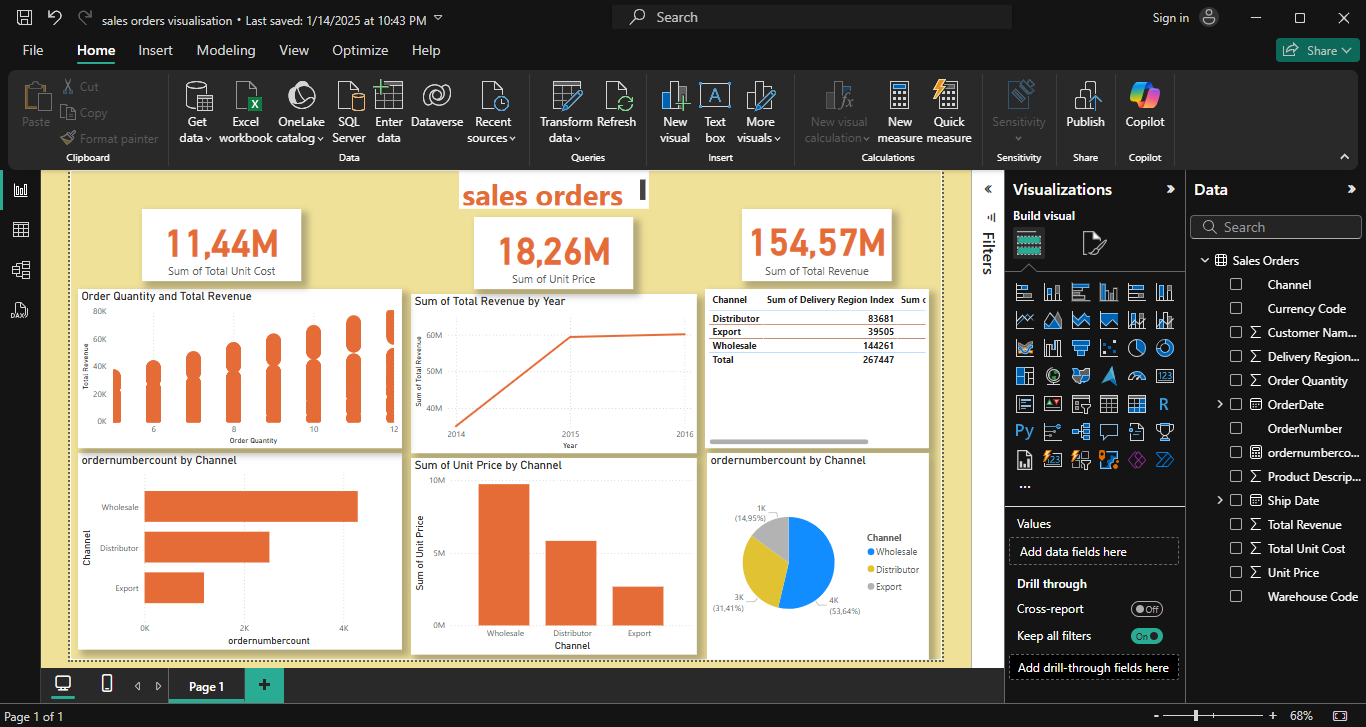

What the dashboard file says about the page in this screenshot:
{"tool":"powerbi","page":{"name":"Page 1","canvas":[1280,720],"ordinal":0},"visuals":[{"type":"clusteredBarChart","fields":{"Category":["Sales Orders.Channel"],"Y":["Sales Orders.ordernumbercount"]},"box":[11.8,415.8,476.1,289.5],"z":0},{"type":"lineChart","fields":{"Category":["Sales Orders.OrderDate.Variation.Date Hierarchy.Year","Sales Orders.OrderDate.Variation.Date Hierarchy.Quarter","Sales Orders.OrderDate.Variation.Date Hierarchy.Month","Sales Orders.OrderDate.Variation.Date Hierarchy.Day"],"Y":["Sum(Sales Orders.Total Revenue)"]},"box":[501.1,174.9,420.2,233.6],"z":1000},{"type":"scatterChart","fields":{"X":["Sales Orders.Order Quantity"],"Y":["Sales Orders.Total Revenue"]},"box":[11.8,174.9,476.1,233.6],"z":2000},{"type":"card","fields":{"Values":["Sum(Sales Orders.Total Revenue)"]},"box":[490.8,10.3,220.4,149.9],"z":3000},{"type":"card","fields":{"Values":["Sum(Sales Orders.Total Unit Cost)"]},"box":[1033,10.3,233.6,149.9],"z":4000},{"type":"card","fields":{"Values":["Sum(Sales Orders.Unit Price)"]},"box":[739.1,10.3,271.8,149.9],"z":5000},{"type":"columnChart","fields":{"Category":["Sales Orders.Channel"],"Y":["Sum(Sales Orders.Unit Price)"]},"box":[501.1,415.8,420.2,289.5],"z":6000},{"type":"tableEx","fields":{"Values":["Sales Orders.Channel","Sum(Sales Orders.Delivery Region Index)","Sum(Sales Orders.Order Quantity)"]},"box":[22,8.8,418.8,151.3],"z":7000},{"type":"pieChart","fields":{"Category":["Sales Orders.Channel"],"Y":["Sales Orders.ordernumbercount"]},"box":[940.4,217.5,326.2,445.2],"z":8000}]}

Visuals, with their boxes on the page's 1280x720 design canvas (x1, y1, x2, y2). These are canvas units, not pixel positions in the 1366x727 screenshot, which may show the page scaled, cropped or inside an application window:
clusteredBarChart - Sales Orders.Channel x Sales Orders.ordernumbercount: <bbox>12, 416, 488, 705</bbox>
lineChart - Sales Orders.OrderDate.Variation.Date Hierarchy.Year x Sales Orders.OrderDate.Variation.Date Hierarchy.Quarter: <bbox>501, 175, 921, 408</bbox>
scatterChart - Sales Orders.Order Quantity x Sales Orders.Total Revenue: <bbox>12, 175, 488, 408</bbox>
card - Sum(Sales Orders.Total Revenue): <bbox>491, 10, 711, 160</bbox>
card - Sum(Sales Orders.Total Unit Cost): <bbox>1033, 10, 1267, 160</bbox>
card - Sum(Sales Orders.Unit Price): <bbox>739, 10, 1011, 160</bbox>
columnChart - Sales Orders.Channel x Sum(Sales Orders.Unit Price): <bbox>501, 416, 921, 705</bbox>
tableEx - Sales Orders.Channel x Sum(Sales Orders.Delivery Region Index): <bbox>22, 9, 441, 160</bbox>
pieChart - Sales Orders.Channel x Sales Orders.ordernumbercount: <bbox>940, 218, 1267, 663</bbox>
